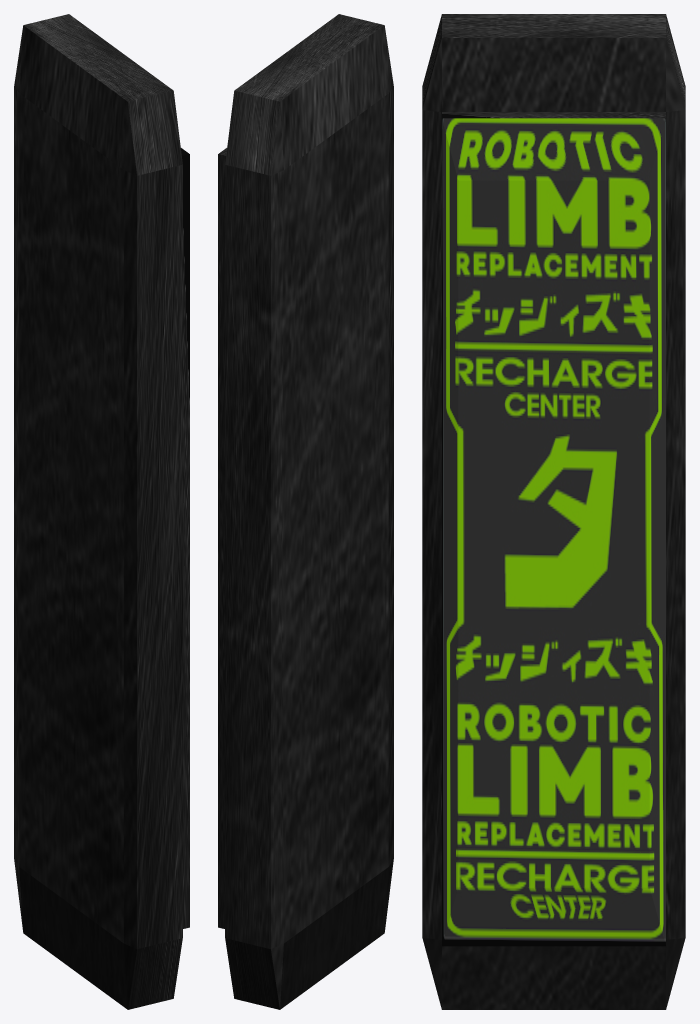
The model's file is placaG2.obj.
3 renders of one model, left to right at view 1: azimuth 30°, elevation 25°; view 2: azimuth 150°, elevation 25°; view 3: azimuth 270°, elevation 25°, orthographic. The views are drawn at different scales.
Visible parts, largest first — view 1: Cube.002; view 2: Cube.002; view 3: Cube.002.
Part boxes in pixels (x1,y1,x2,y2): Cube.002: (14,14,189,1009); Cube.002: (218,14,393,1009); Cube.002: (422,14,685,1009).
Size of the model in its own units: 0.8994 by 11.28 by 2.77.
